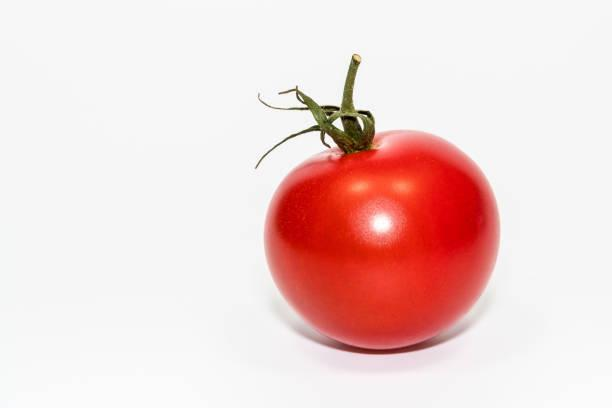Tomato: (261, 51, 502, 350)
